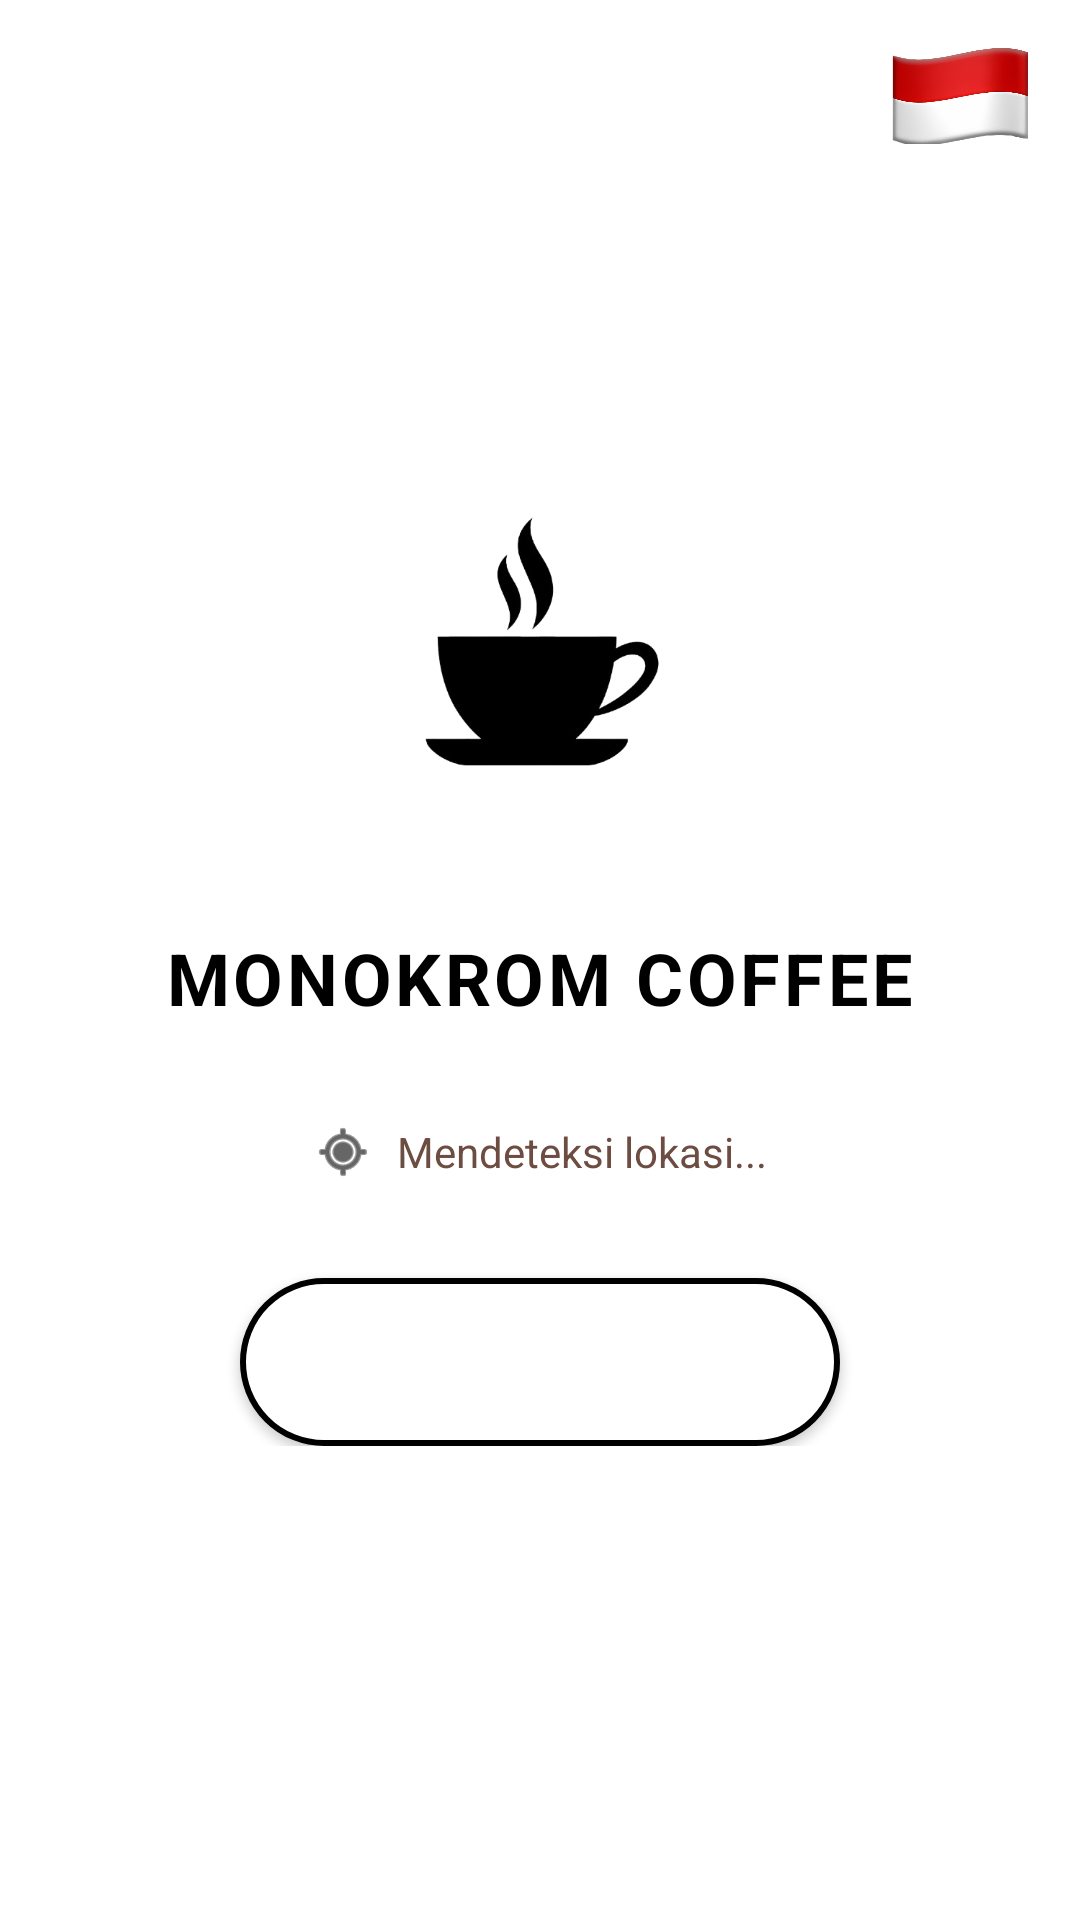

Where icons sit on this 1080 x 1920 app screen, as bbox(x1, y1, x2, y2):
Bendera Indonesia: bbox(892, 48, 1028, 144)
